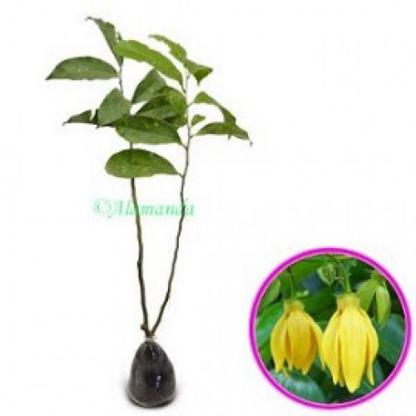Kenanga: (320, 302, 383, 383), (261, 302, 328, 375)
